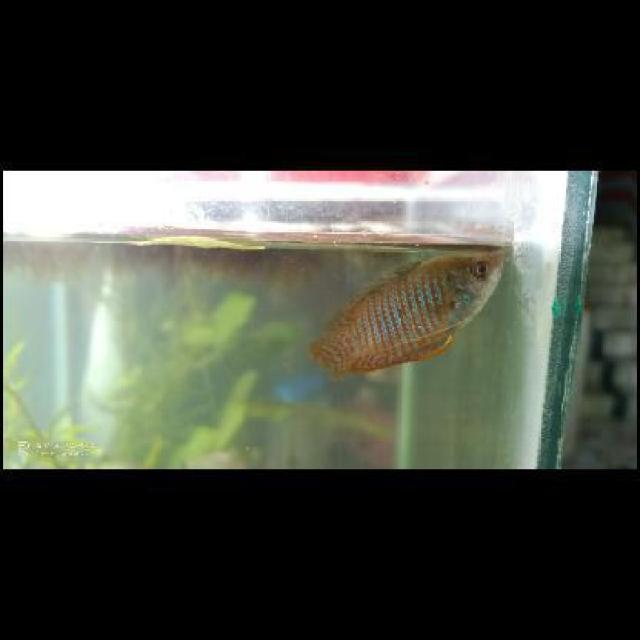Gourami: (310, 243, 504, 375)
